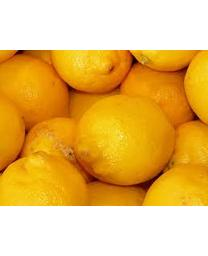lemon: (75, 94, 178, 186), (2, 154, 89, 205), (51, 52, 133, 92)
